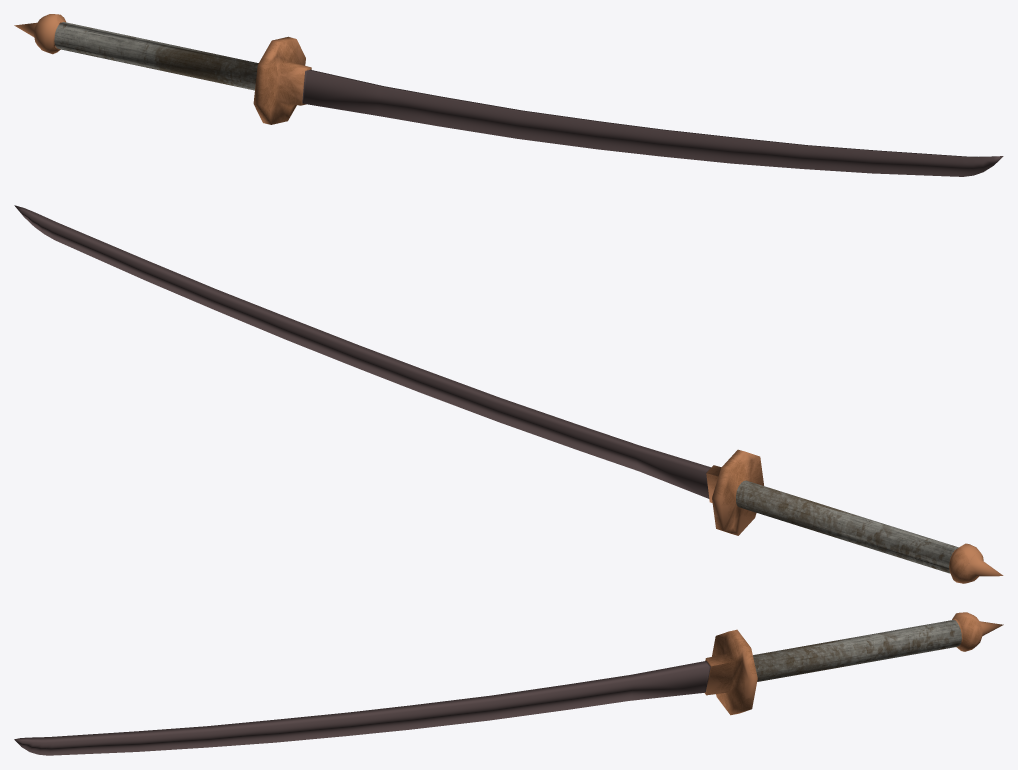
File: Anim_idle_katana_objetos.0018.obj
3 renders of one model, top to bottom at view 1: azimuth 30°, elevation 25°; view 2: azimuth 210°, elevation 25°; view 3: azimuth 270°, elevation 25°, orthographic.
Parts seen in each view (by area): view 1: Katana1; view 2: Katana1; view 3: Katana1.
Boxes of the visible parts, <box> form: Katana1: <box>14,14,1003,176</box>; Katana1: <box>14,205,1003,583</box>; Katana1: <box>14,612,1003,755</box>.
Size of the model in its own units: 2.59 by 0.7487 by 4.65.
